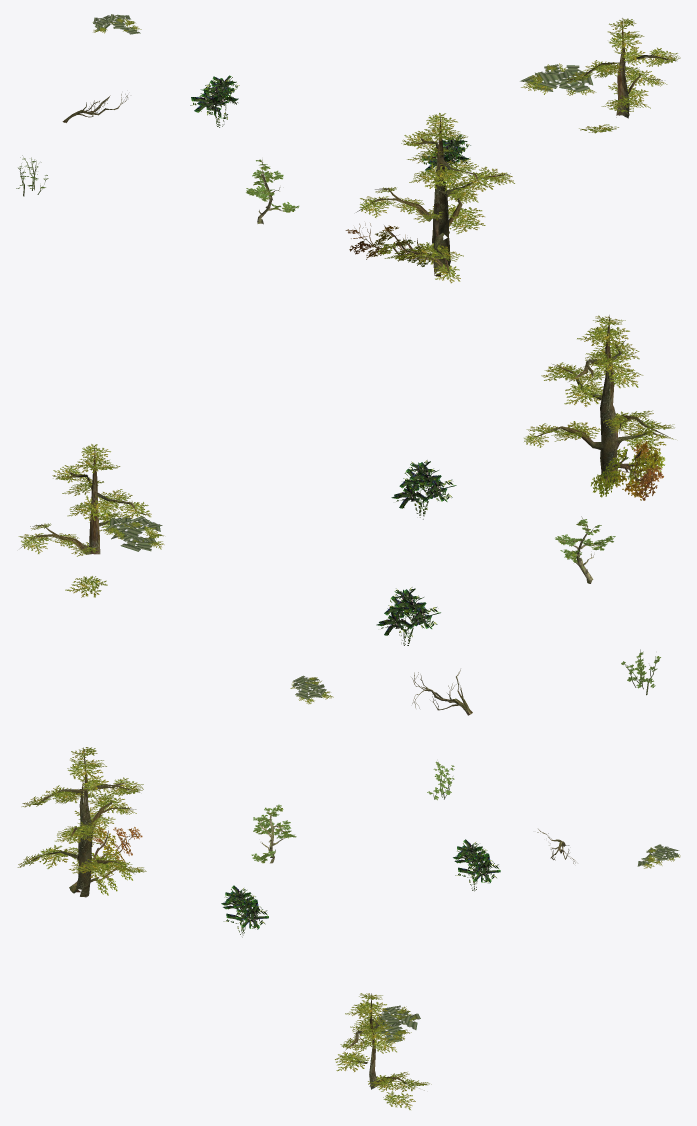
File: S_Tree_3100_004.FBX
The picture shows the model from 3 angles, top to bottom: view 1: azimuth 30°, elevation 25°; view 2: azimuth 150°, elevation 25°; view 3: azimuth 270°, elevation 25°; orthographic projection. The views are drawn at different scales.
Parts seen in each view (by area): view 1: S_Tree_Green028_002, S_Tree_Green028_001, S_Tree_Green035_001, S_Tree_Green020_001, S_Tree_Green051_002, S_Tree_Green048_001, S_Tree_Green051_001, S_Tree_Green020_002; view 2: S_Tree_Green028_002, S_Tree_Green028_001, S_Tree_Green035_001, S_Tree_Green051_002, S_Tree_Green051_001, S_Tree_Green020_001, S_Tree_Green048_001, S_Tree_Green020_002; view 3: S_Tree_Green028_002, S_Tree_Green028_001, S_Tree_Green035_001, S_Tree_Green051_002, S_Tree_Green051_001, S_Tree_Green020_001, S_Tree_Green048_001, S_Tree_Green020_002.
Part boxes in pixels (<box>): S_Tree_Green028_002: <box>356,113,514,283</box>; S_Tree_Green028_001: <box>567,18,680,133</box>; S_Tree_Green035_001: <box>345,223,450,273</box>; S_Tree_Green020_001: <box>520,63,596,95</box>; S_Tree_Green051_002: <box>190,75,239,127</box>; S_Tree_Green048_001: <box>246,159,299,224</box>; S_Tree_Green051_001: <box>421,134,470,183</box>; S_Tree_Green020_002: <box>92,14,141,34</box>; S_Tree_Green028_002: <box>524,315,675,482</box>; S_Tree_Green028_001: <box>18,444,151,597</box>; S_Tree_Green035_001: <box>591,441,664,500</box>; S_Tree_Green051_002: <box>376,587,440,645</box>; S_Tree_Green051_001: <box>391,460,456,519</box>; S_Tree_Green020_001: <box>98,516,164,551</box>; S_Tree_Green048_001: <box>555,516,615,583</box>; S_Tree_Green020_002: <box>290,675,333,704</box>; S_Tree_Green028_002: <box>17,747,146,897</box>; S_Tree_Green028_001: <box>335,993,431,1109</box>; S_Tree_Green035_001: <box>69,825,142,895</box>; S_Tree_Green051_002: <box>453,839,500,891</box>; S_Tree_Green051_001: <box>221,885,268,937</box>; S_Tree_Green020_001: <box>367,1005,420,1042</box>; S_Tree_Green048_001: <box>251,804,296,863</box>; S_Tree_Green020_002: <box>637,844,680,868</box>.
Size of the model in its own units: 8812 by 2970 by 8631.
